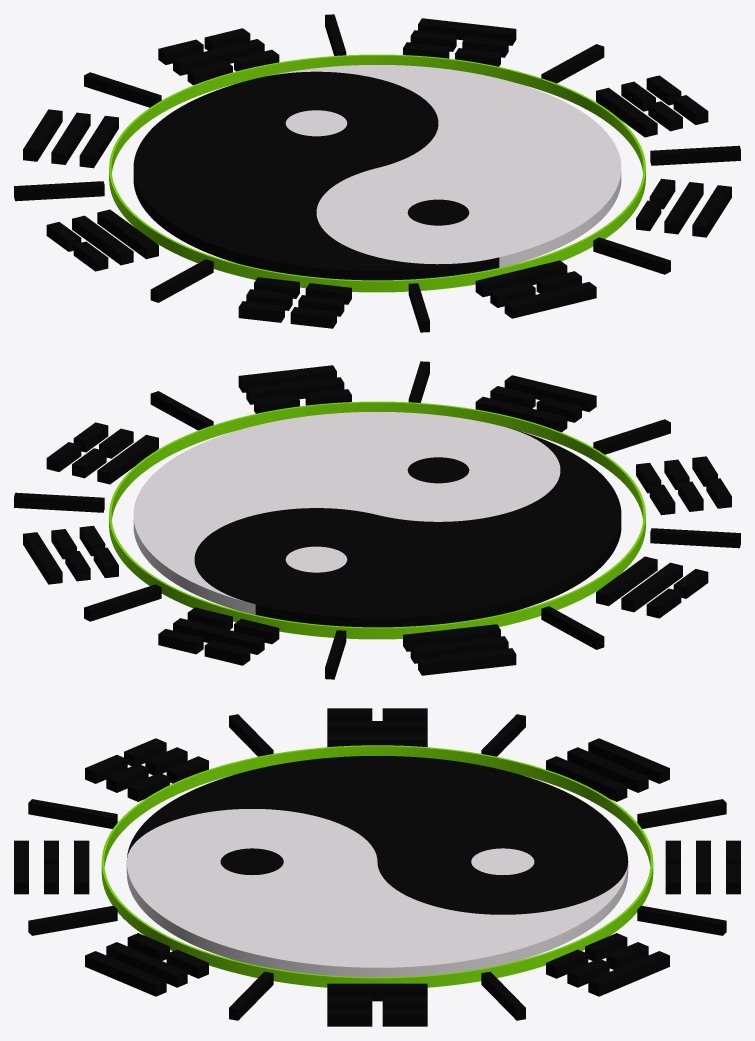
Rendered from BL BAGUA.fbx.
3 renders of one model, top to bottom at view 1: azimuth 30°, elevation 25°; view 2: azimuth 150°, elevation 25°; view 3: azimuth 270°, elevation 25°, orthographic. The views are drawn at different scales.
Visible parts, largest first — view 1: 物件_6, 物件_4, 物件_7, 物件_30, 物件_10, 物件_14, 物件_33, 物件_49, 物件_20, 物件_43, 物件_42, 物件_21 (+36 smaller); view 2: 物件_6, 物件_4, 物件_7, 物件_46, 物件_9, 物件_13, 物件_30, 物件_49, 物件_27, 物件_26, 物件_45, 物件_44 (+32 smaller); view 3: 物件_4, 物件_6, 物件_7, 物件_20, 物件_26, 物件_45, 物件_27, 物件_46, 物件_8, 物件_11, 物件_21, 物件_12 (+31 smaller).
Boxes of the visible parts, left/top/right/bottom form: 物件_6: left=133, top=71, right=499, bottom=280; 物件_4: left=266, top=65, right=621, bottom=267; 物件_7: left=109, top=54, right=645, bottom=292; 物件_30: left=504, top=282, right=596, bottom=318; 物件_10: left=650, top=145, right=740, bottom=165; 物件_14: left=14, top=181, right=104, bottom=201; 物件_33: left=475, top=260, right=567, bottom=297; 物件_49: left=173, top=39, right=264, bottom=75; 物件_20: left=418, top=18, right=516, bottom=45; 物件_43: left=97, top=209, right=158, bottom=259; 物件_42: left=72, top=215, right=133, bottom=265; 物件_21: left=596, top=87, right=657, bottom=137; 物件_6: left=194, top=428, right=621, bottom=627; 物件_4: left=133, top=412, right=560, bottom=614; 物件_7: left=109, top=401, right=645, bottom=639; 物件_46: left=418, top=648, right=516, bottom=675; 物件_9: left=14, top=492, right=104, bottom=512; 物件_13: left=650, top=528, right=740, bottom=548; 物件_30: left=504, top=375, right=596, bottom=411; 物件_49: left=173, top=618, right=264, bottom=654; 物件_27: left=246, top=377, right=344, bottom=404; 物件_26: left=238, top=365, right=336, bottom=392; 物件_45: left=410, top=636, right=508, bottom=663; 物件_44: left=403, top=624, right=500, bottom=651; 物件_4: left=126, top=809, right=628, bottom=977; 物件_6: left=126, top=756, right=628, bottom=914; 物件_7: left=101, top=745, right=653, bottom=987; 物件_20: left=588, top=951, right=669, bottom=996; 物件_26: left=85, top=951, right=166, bottom=996; 物件_45: left=567, top=747, right=648, bottom=792; 物件_27: left=106, top=942, right=187, bottom=987; 物件_46: left=588, top=738, right=669, bottom=783; 物件_8: left=637, top=905, right=726, bottom=935; 物件_11: left=28, top=905, right=117, bottom=935; 物件_21: left=327, top=983, right=427, bottom=1001; 物件_12: left=28, top=799, right=117, bottom=828.
Size of the model in its own units: 290 by 5 by 290.
